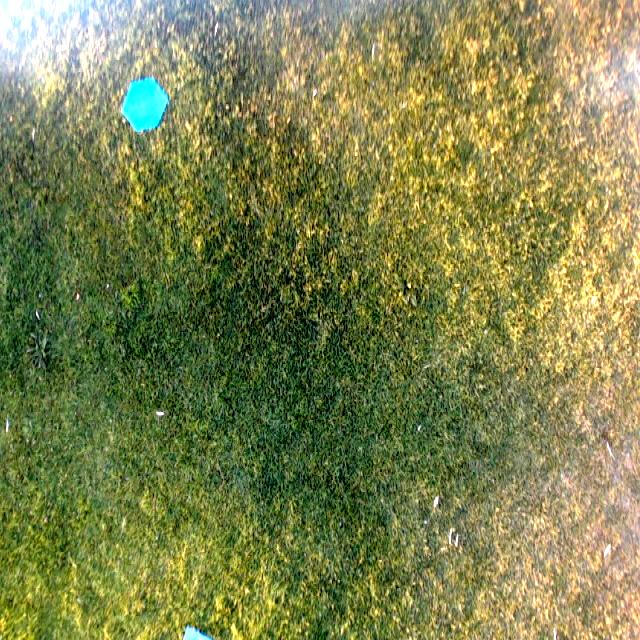blue_hexagon: (122, 78, 168, 131)
